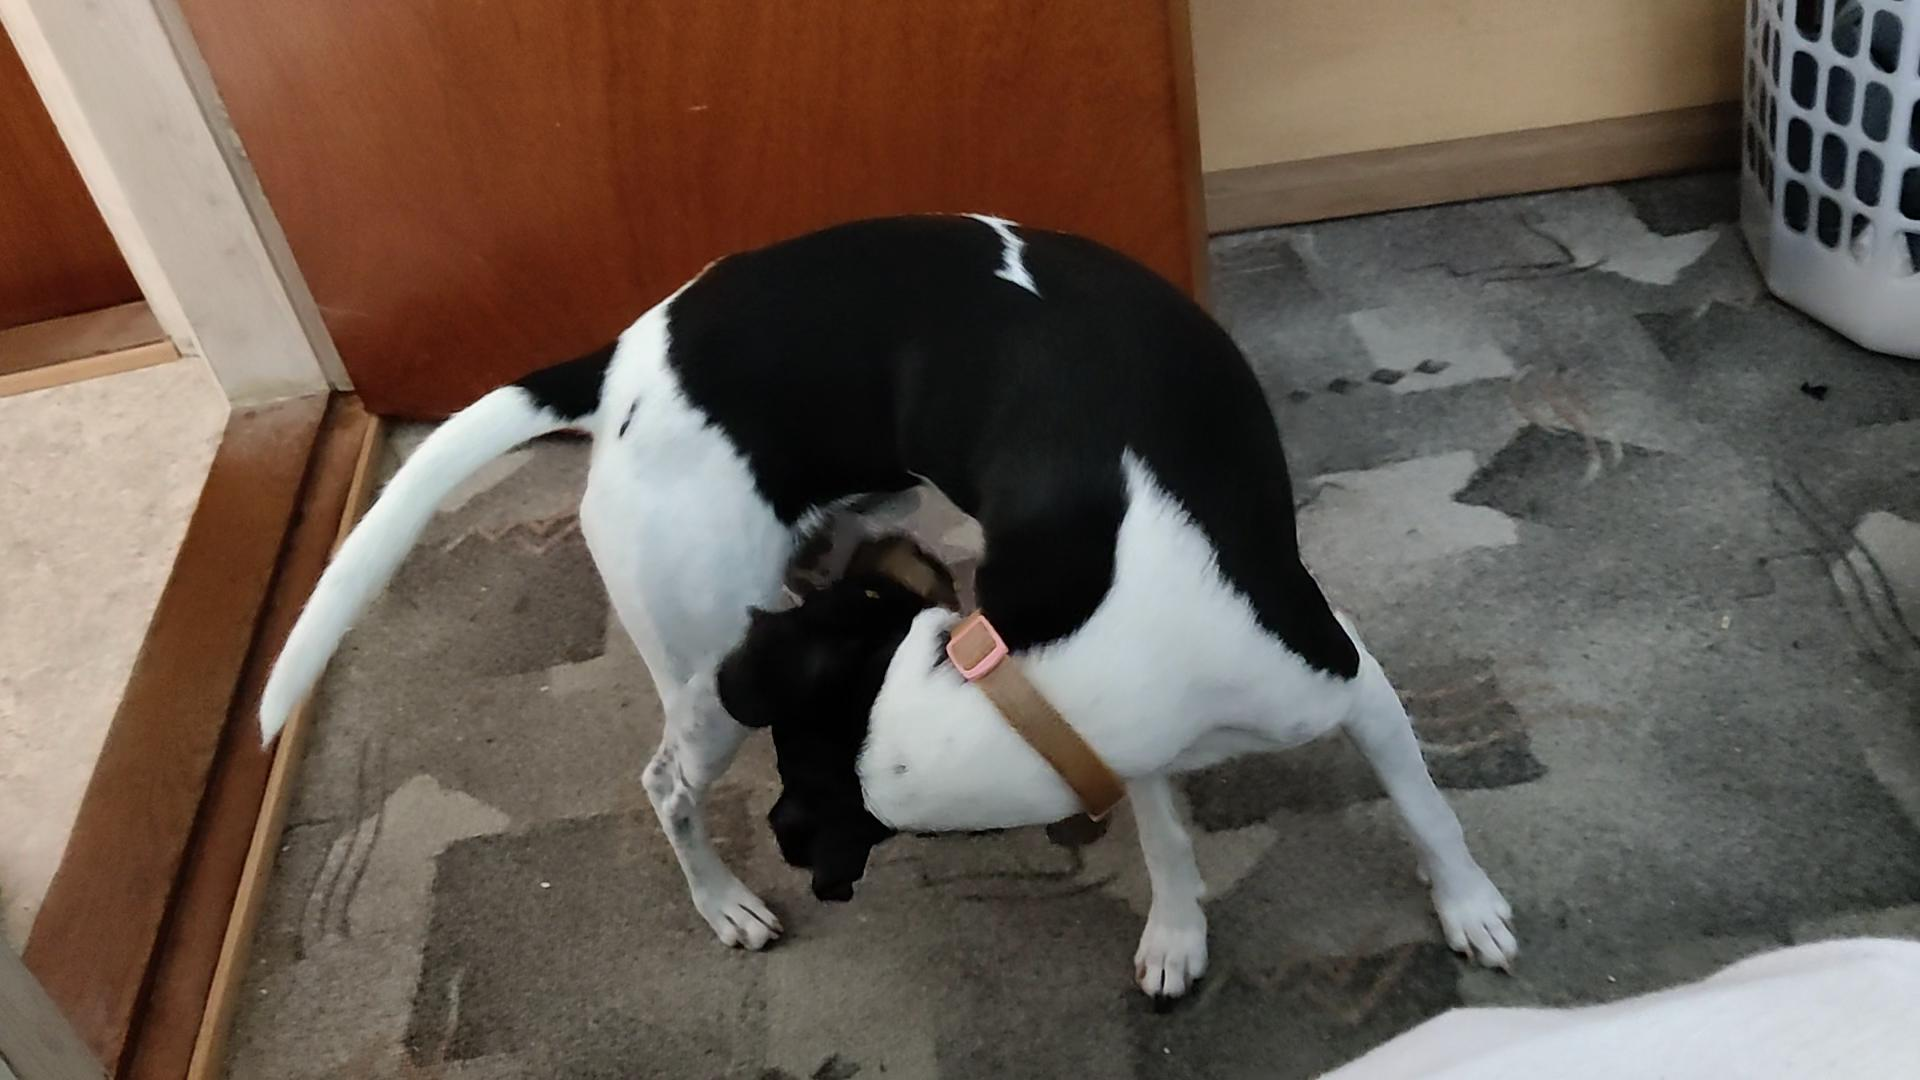Dog: (227, 178, 1557, 1033)
